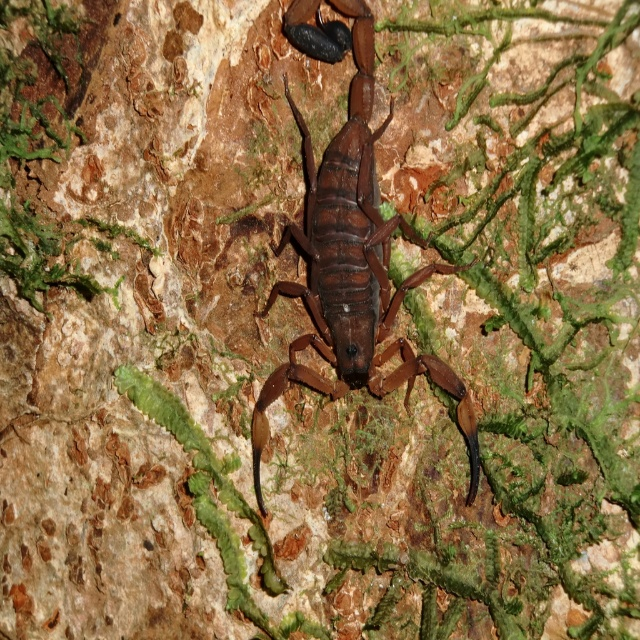Scorpion: (247, 0, 482, 516)
